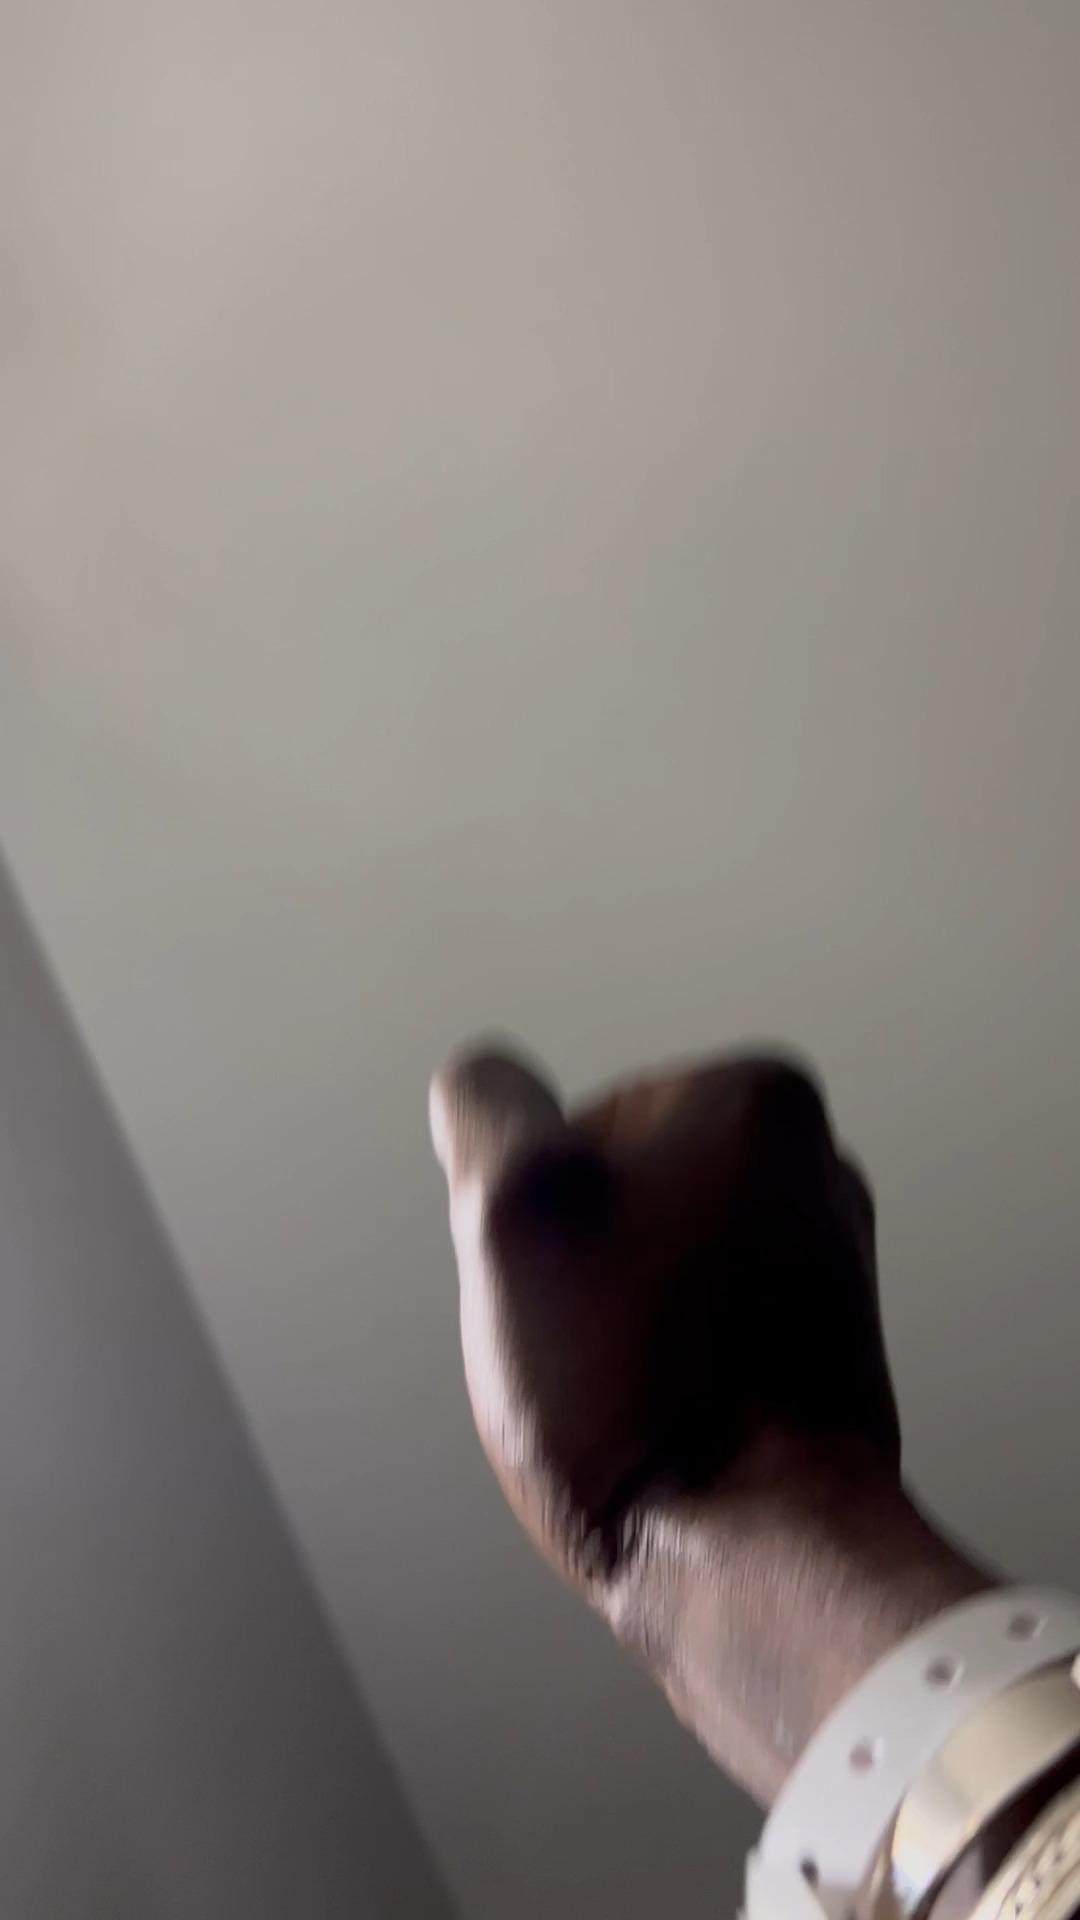Rock: (427, 1036, 907, 1606)
